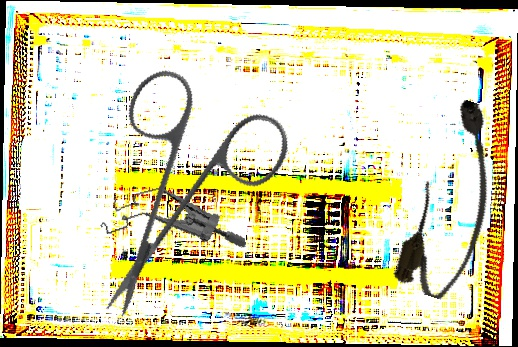Cannula: (390, 95, 518, 305)
Iris Scissors: (40, 39, 325, 321)
Speculum: (93, 166, 248, 282)
